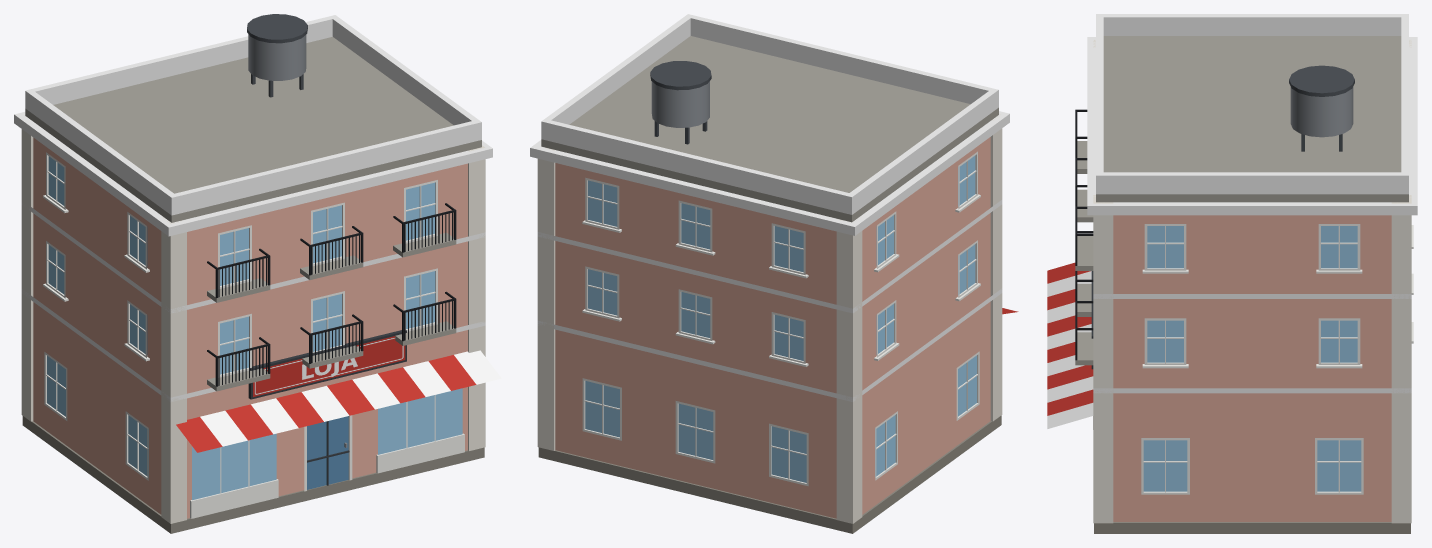
The model's file is predio-loja-3.glb.
3 views of the same model, side by side, from view 1: azimuth 30°, elevation 25°; view 2: azimuth 150°, elevation 25°; view 3: azimuth 270°, elevation 25° (orthographic). The views are drawn at different scales.
Parts seen in each view (by area): view 1: Paredes, Telhado, Detalhes, Molduras, VidroLuz, Vidro, Letreiro; view 2: Paredes, Telhado, Molduras, Detalhes, Vidro, VidroLuz; view 3: Paredes, Telhado, Detalhes, Molduras, Vidro, VidroLuz.
Part boxes in pixels (x1,y1,x2,y2): Paredes: (22, 137, 484, 533); Telhado: (25, 15, 481, 222); Detalhes: (21, 14, 501, 523); Molduras: (14, 112, 492, 518); VidroLuz: (47, 156, 462, 500); Vidro: (48, 205, 341, 477); Letreiro: (253, 336, 405, 396); Paredes: (538, 137, 1001, 533); Telhado: (541, 14, 998, 222); Molduras: (530, 111, 1009, 486); Detalhes: (537, 61, 1018, 523); Vidro: (585, 156, 976, 437); VidroLuz: (678, 215, 975, 482); Paredes: (1075, 141, 1410, 533); Telhado: (1096, 14, 1408, 202); Detalhes: (1047, 40, 1411, 523); Molduras: (1075, 37, 1417, 494); Vidro: (1147, 226, 1361, 491); VidroLuz: (1143, 320, 1357, 491).
Bounding box in the file's own units: 11.5 × 12.77 × 10.65.
Materials: 15 (1 with a texture image).
